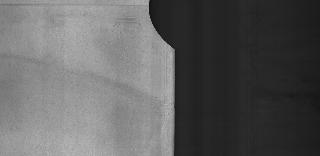welding line: (2, 1, 156, 11)
